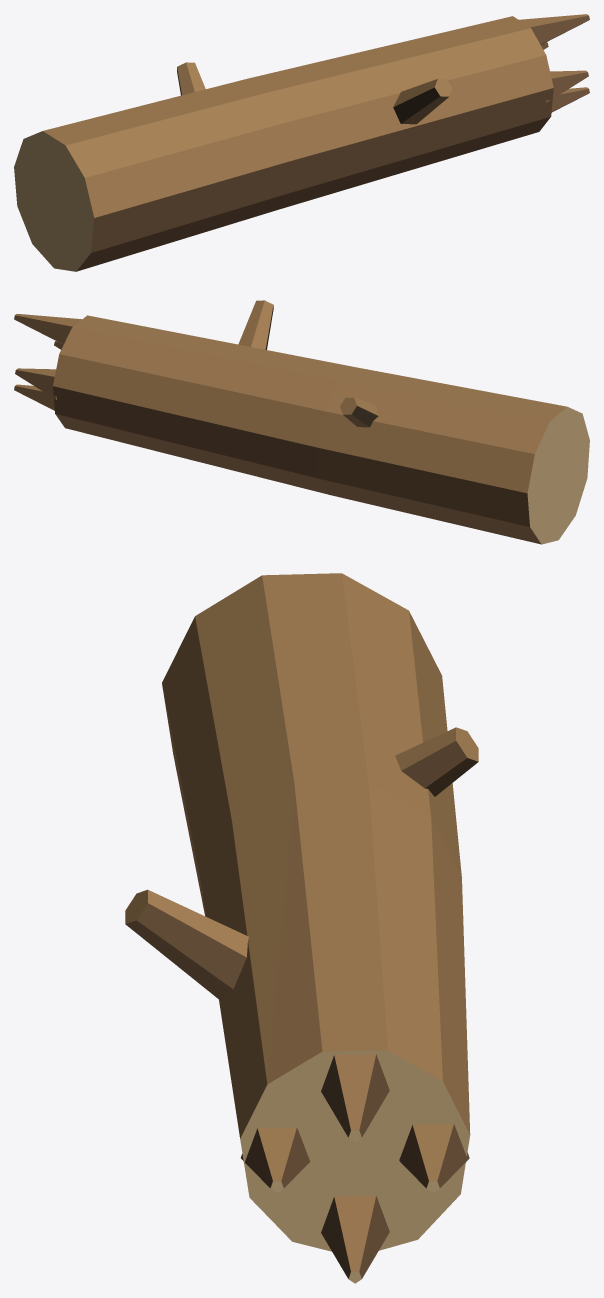
The model's file is TW_PROP_LOG_BROKEN_B_LOD0.glb.
3 renders of one model, top to bottom at view 1: azimuth 30°, elevation 25°; view 2: azimuth 150°, elevation 25°; view 3: azimuth 270°, elevation 25°, orthographic. The views are drawn at different scales.
Visible parts, largest first — view 1: TW_PROP_LOG_BROKEN_B_LOD0; view 2: TW_PROP_LOG_BROKEN_B_LOD0; view 3: TW_PROP_LOG_BROKEN_B_LOD0.
Part boxes in pixels (x1,y1,x2,y2): TW_PROP_LOG_BROKEN_B_LOD0: (14, 14, 589, 271); TW_PROP_LOG_BROKEN_B_LOD0: (14, 300, 589, 544); TW_PROP_LOG_BROKEN_B_LOD0: (125, 573, 478, 1283).
Size of the model in its own units: 2.09 by 0.4873 by 0.5983.
1 material, 1 textured.
